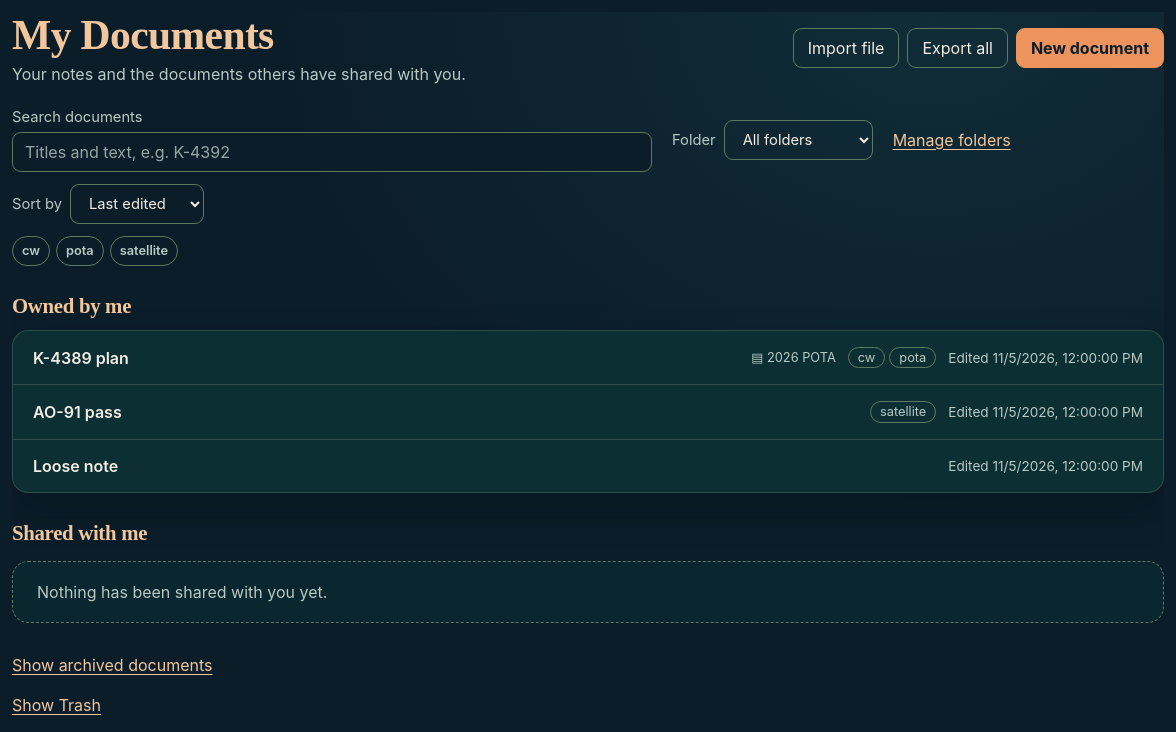
DocumentList › filters by folder and tag through the URL and can clear them
The width and height of the screenshot is (1176, 732).
Check: the link "Loose note" is shown, box [33,456,118,476]
Check: the text "2026 POTA" is shown, box [767,350,836,365]
Select "2026 POTA" in the dropdown labelled "Folder" at coordinates (798, 140), box [724,120,873,160]
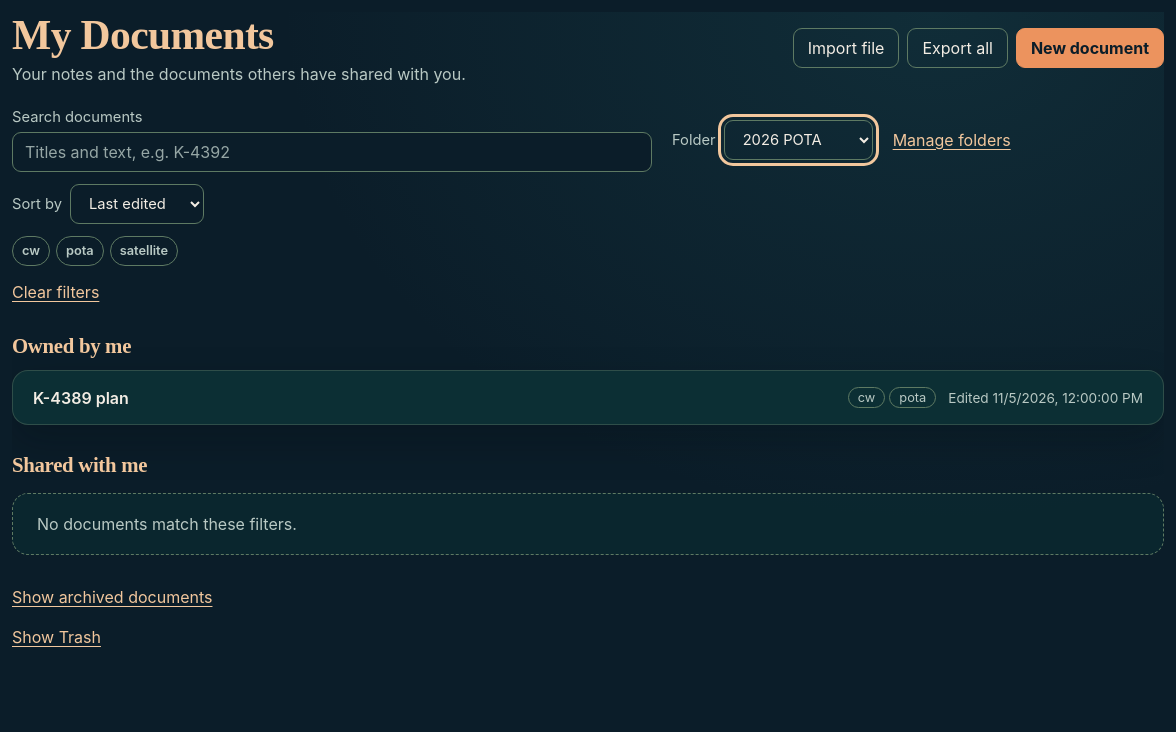
Check: the links read "K-4389 plan", in this order, box [33,388,129,408]
Select "Not in a folder" in the dropdown labelled "Folder" at coordinates (798, 140), box [724,120,873,160]
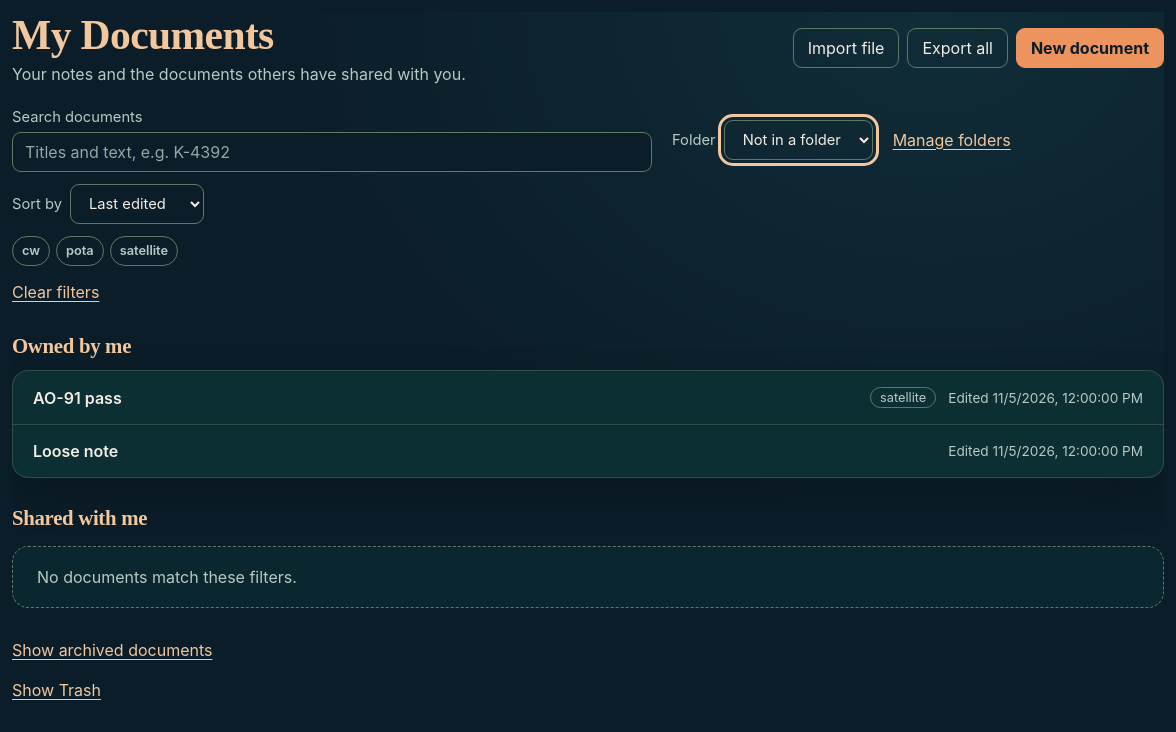
Click the button "satellite" at coordinates (144, 251), box [110,236,178,266]
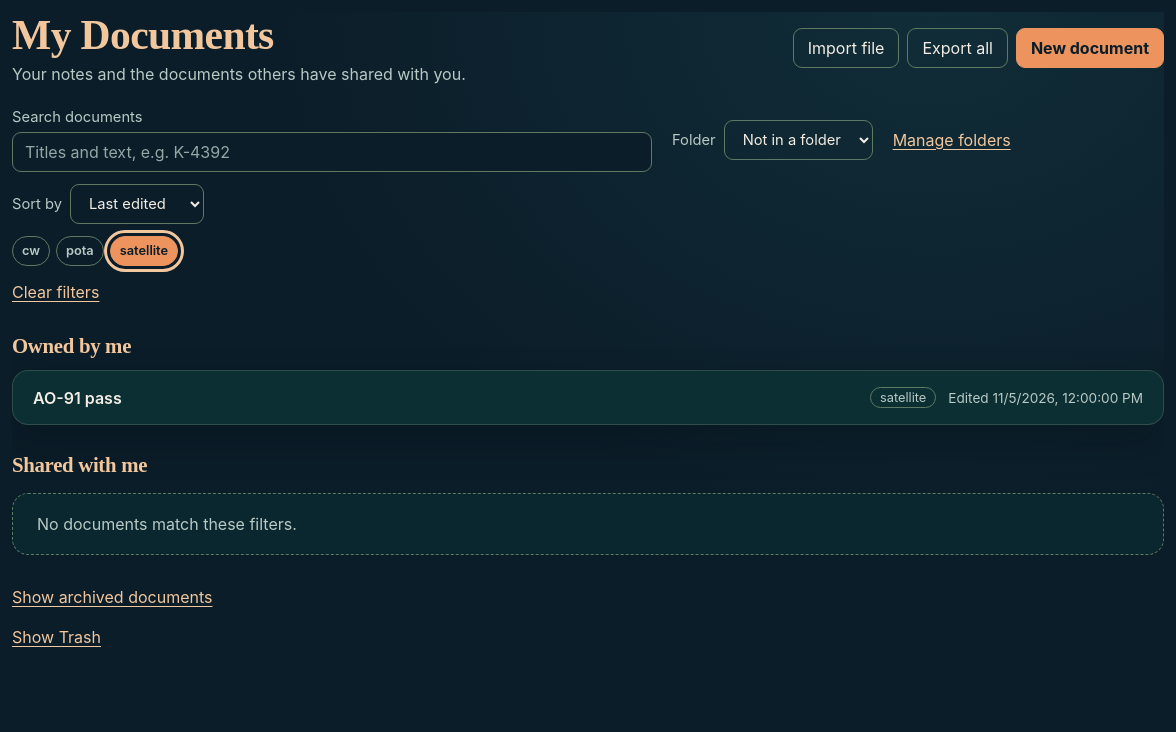
Check: the links read "AO-91 pass", in this order, box [33,388,122,408]
Click the button "cw" at coordinates (31, 251), box [12,236,50,266]
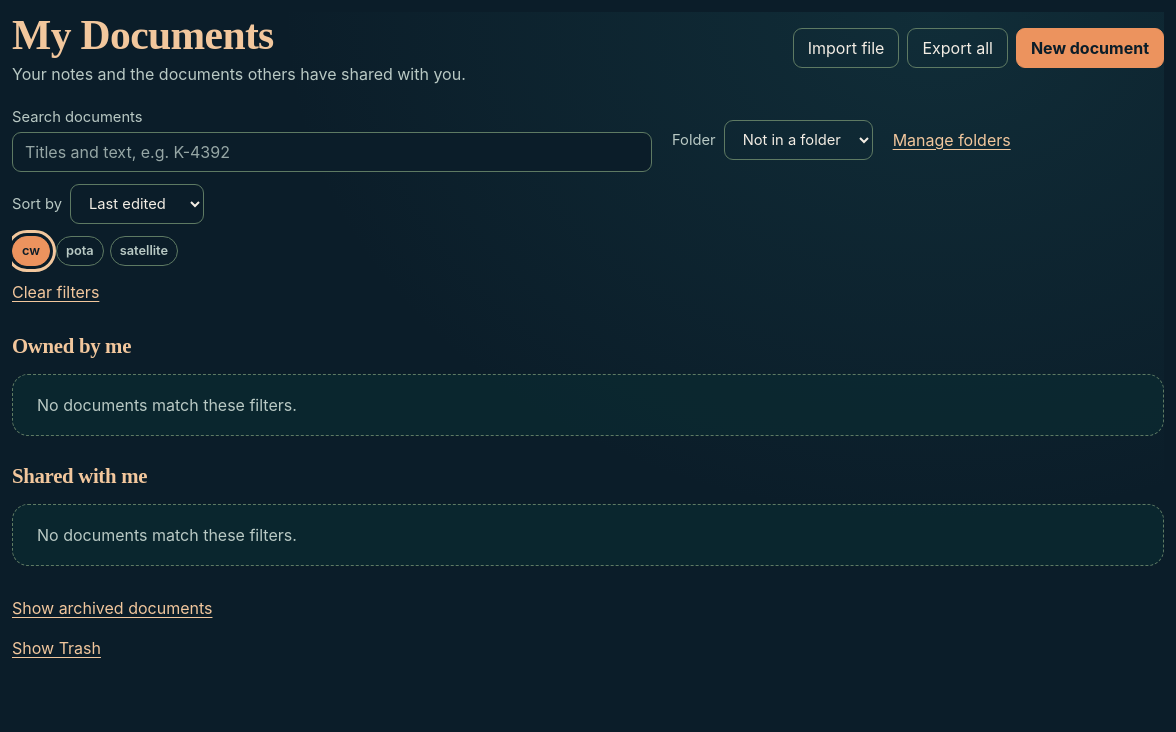
Check: the text "No documents match these filters." below "Owned by me" is shown, box [37,395,297,415]
Click the button "Clear filters" at coordinates (56, 292), box [12,278,99,306]
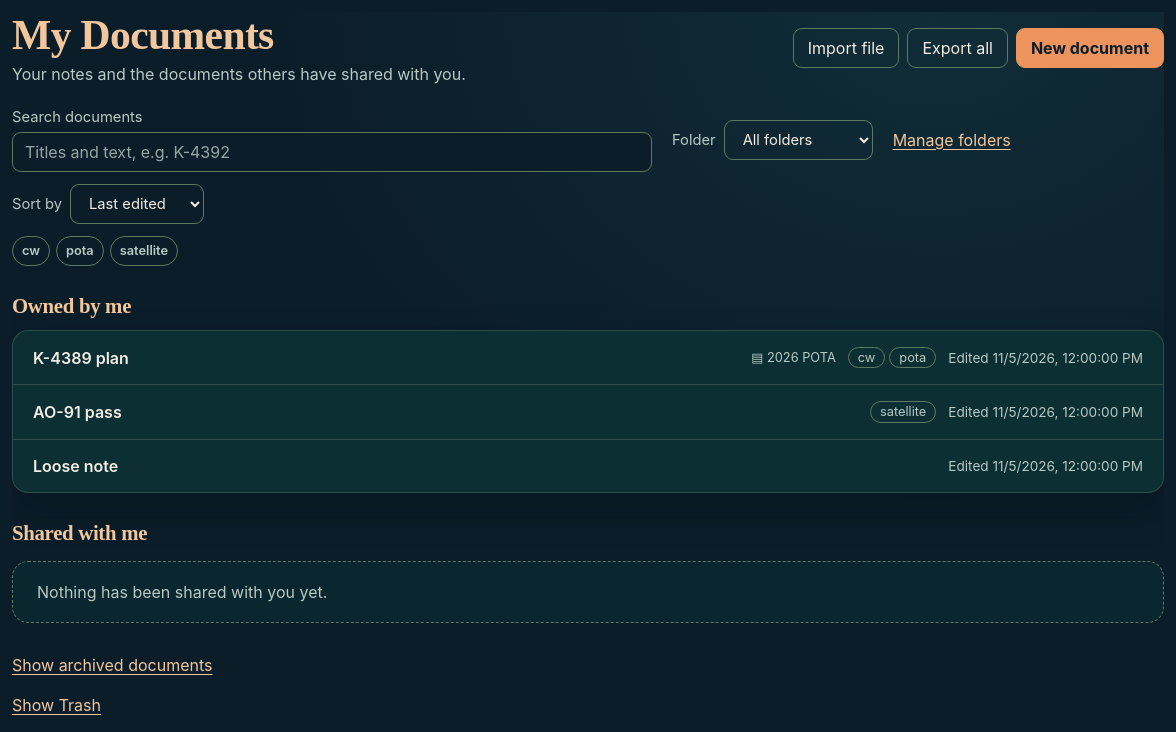
Check: the number of links is 3, box [33,348,129,368]; [33,402,122,422]; [33,456,118,476]
